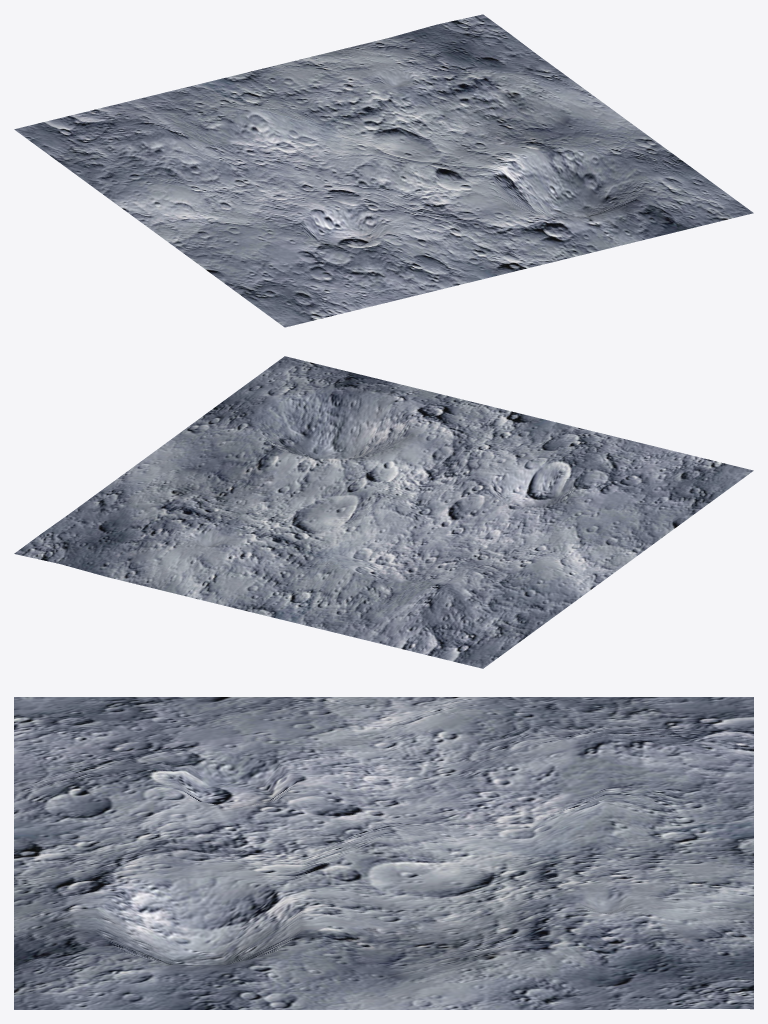
Rendered from Moon-DemoT.fbx.
3 views of the same model, one above another, from view 1: azimuth 30°, elevation 25°; view 2: azimuth 150°, elevation 25°; view 3: azimuth 270°, elevation 25° (orthographic). The views are drawn at different scales.
Parts seen in each view (by area): view 1: pPlane1; view 2: pPlane1; view 3: pPlane1.
Boxes of the visible parts, left/top/right/bottom form: pPlane1: left=14, top=14, right=753, bottom=327; pPlane1: left=14, top=356, right=753, bottom=668; pPlane1: left=14, top=697, right=753, bottom=1009.
Size of the model in its own units: 21.33 by 1.68 by 21.33.
